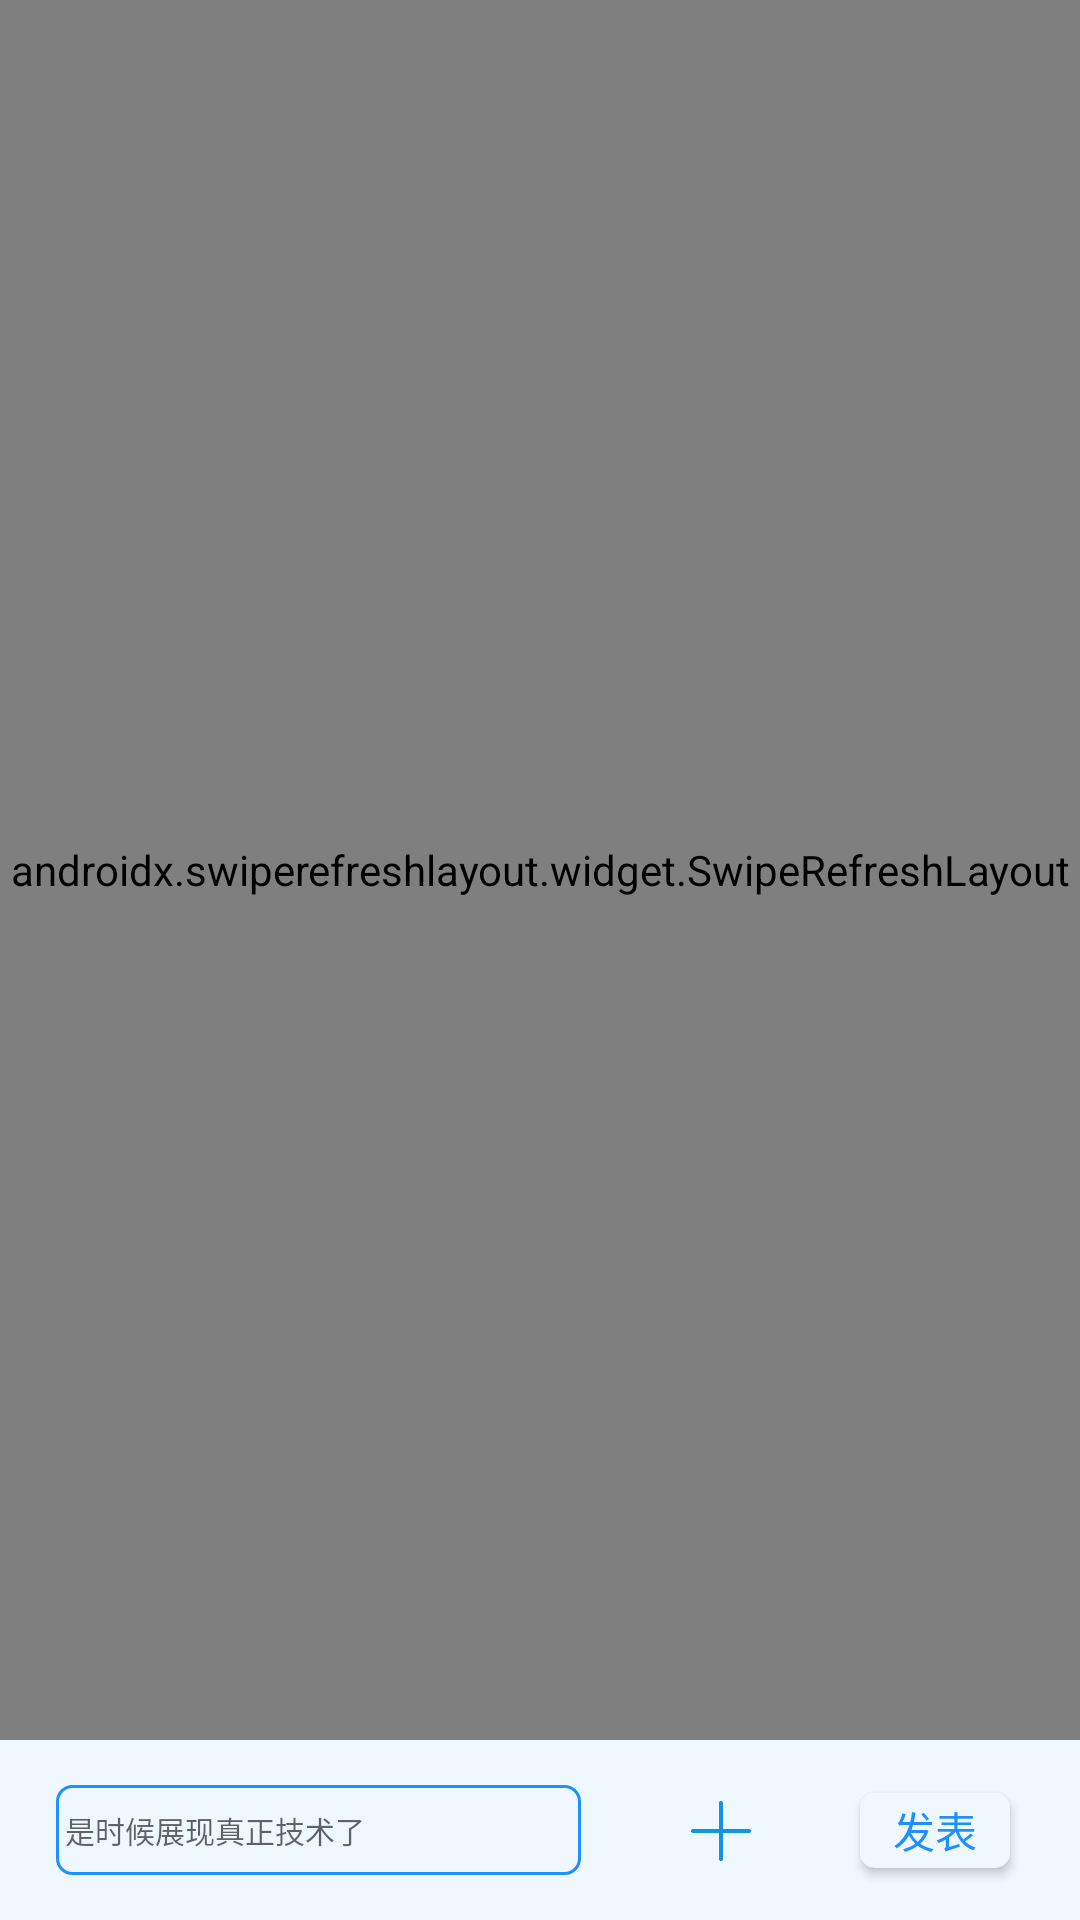

Where to tap for icons on this 1080px×1920px app screen, as (x,y):
jia question: (721,1831)
